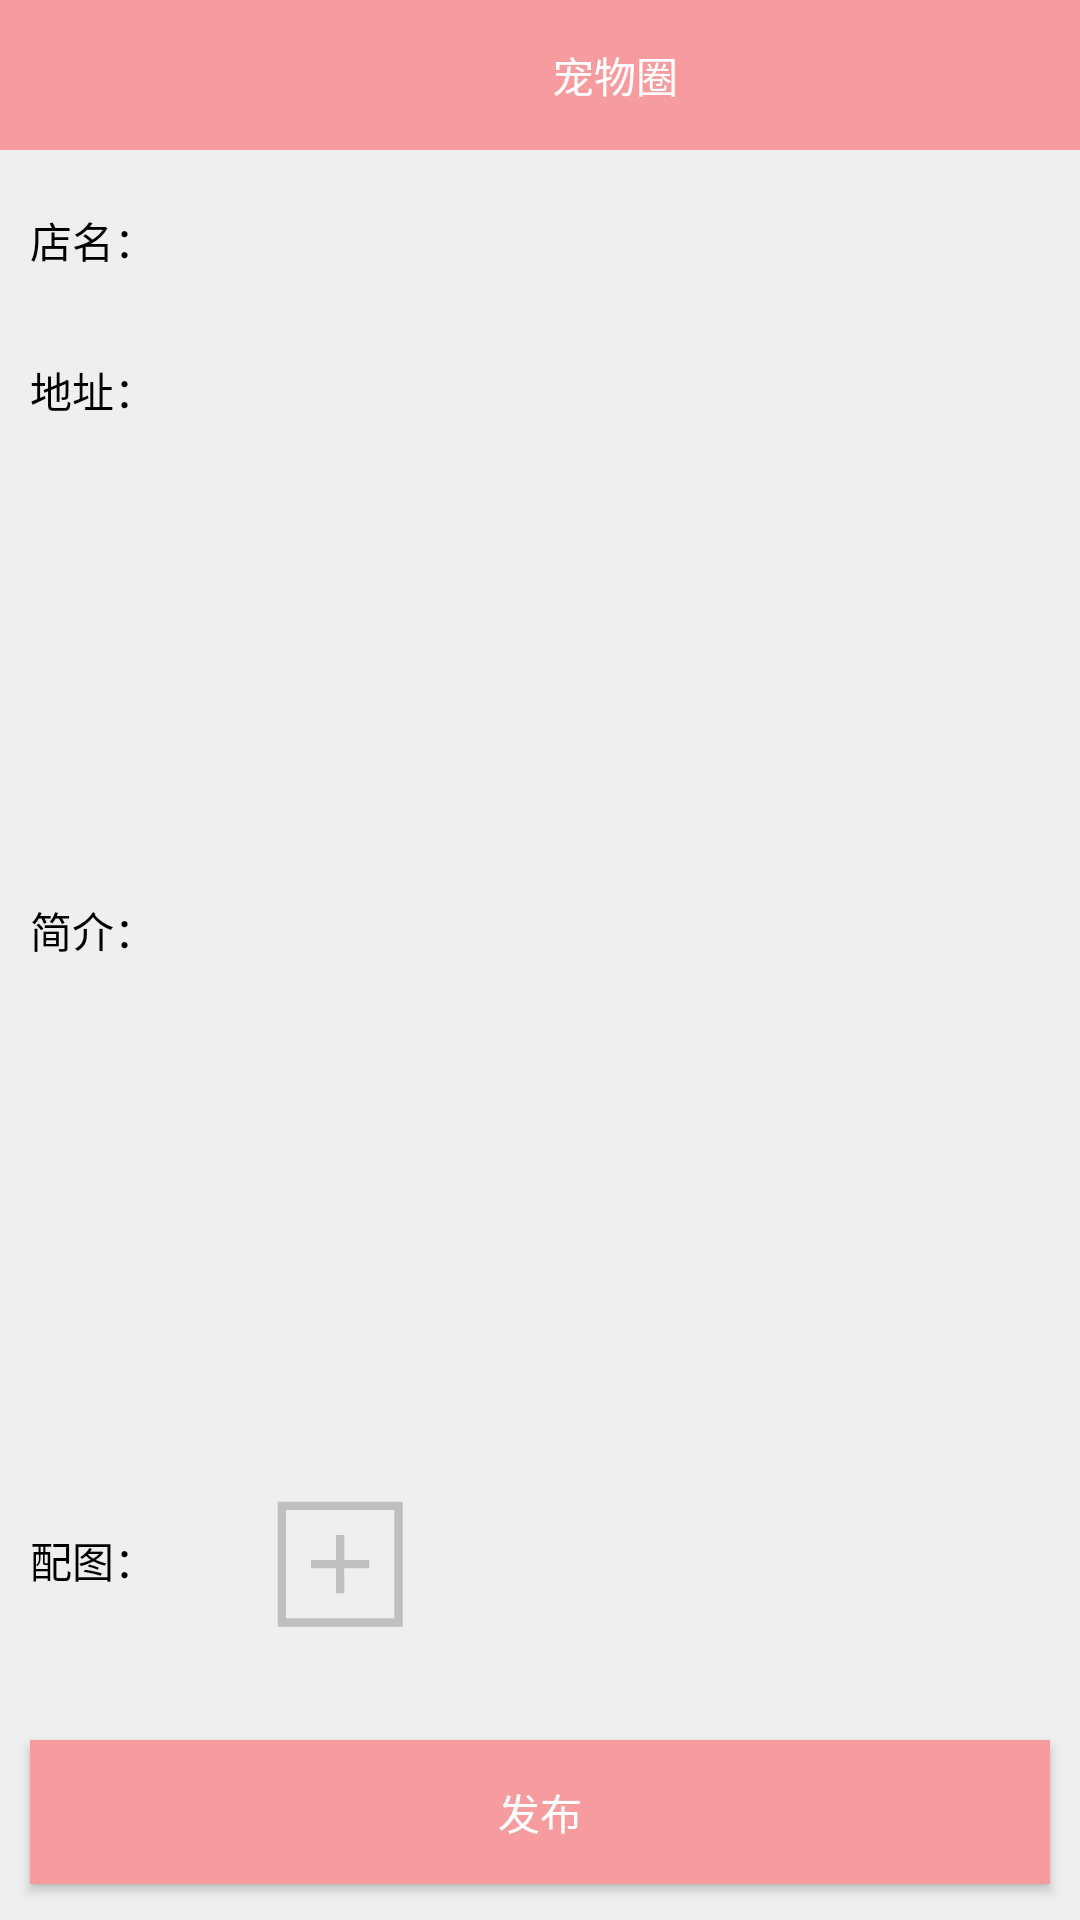

Screen size 1080w x 1920h. Icon name, then its box in pixels as (x1, y1, x2, y2):
add: (278, 1502, 403, 1627)
